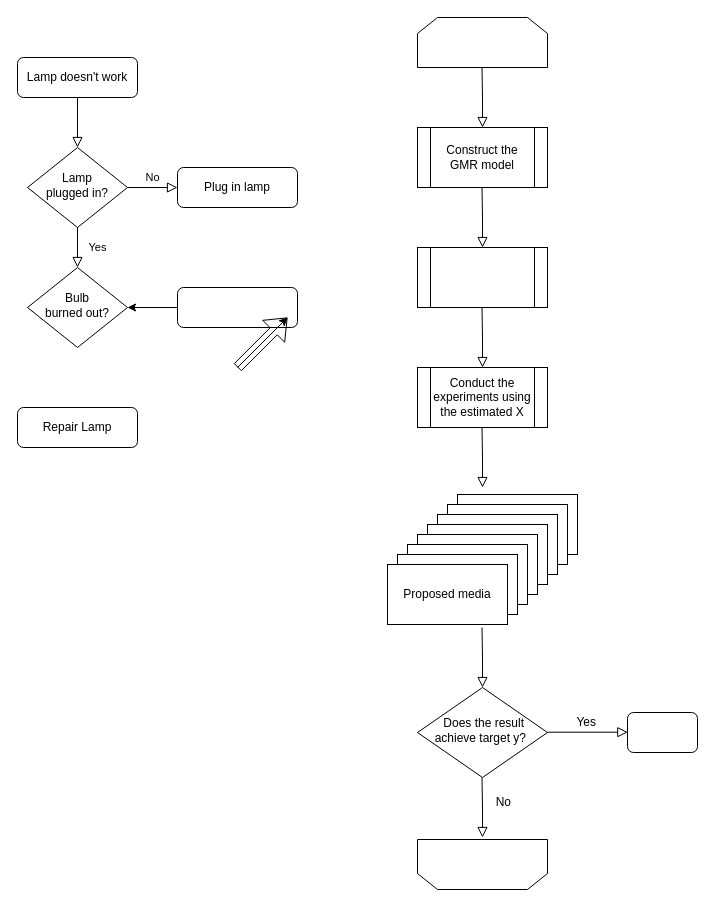
Image size: 715x907. Some labels were removed from this diagram. Each missing label, with the centre of its shape:
"Add the experimental results to the dataset" goes at pixel 482 864.
"End" goes at pixel 662 732.
"Estimate X by inputting target y into GMR model" goes at pixel 482 277.
"Replace Bulb" goes at pixel 237 307.
